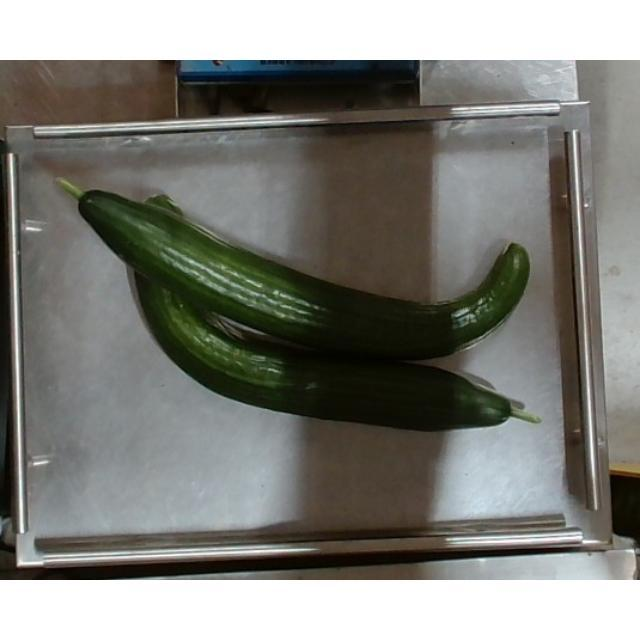cucumber: (130, 192, 530, 432), (78, 195, 530, 358)
